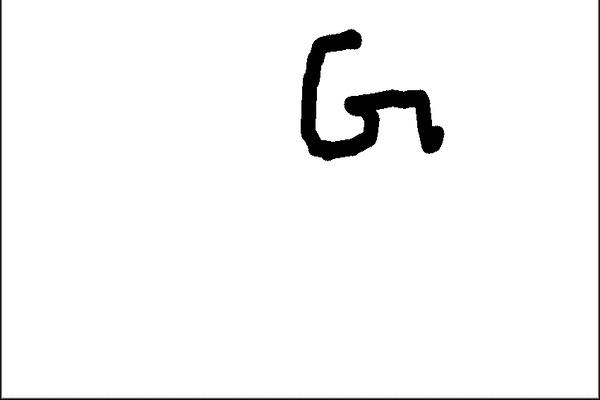G: (295, 24, 447, 168)
